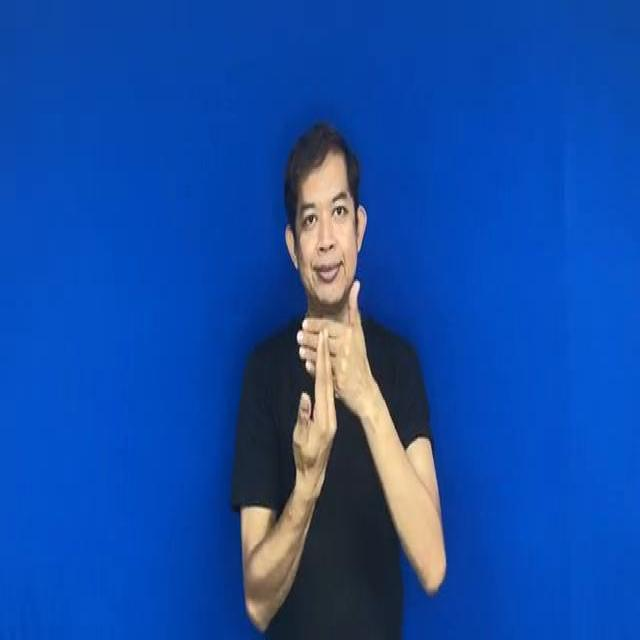bread: (281, 288, 379, 486)
